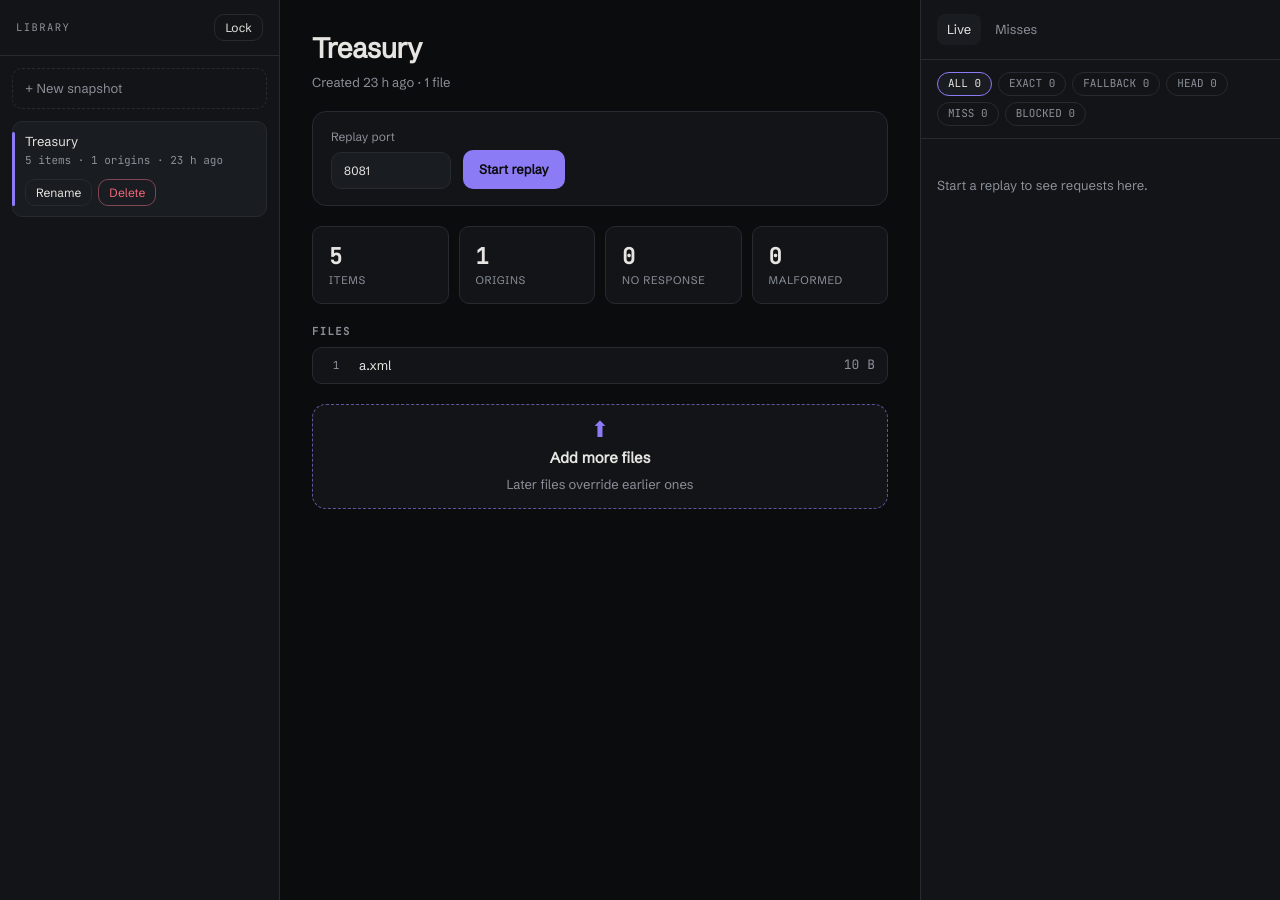
Test: renaming updates the card
The width and height of the screenshot is (1280, 900).
Expected: the button "Treasury 5 items · 1 origins · 23 h ago" is shown, [13, 122, 266, 179]
Click the button "Rename".
click(59, 193)  # box [25, 179, 92, 206]
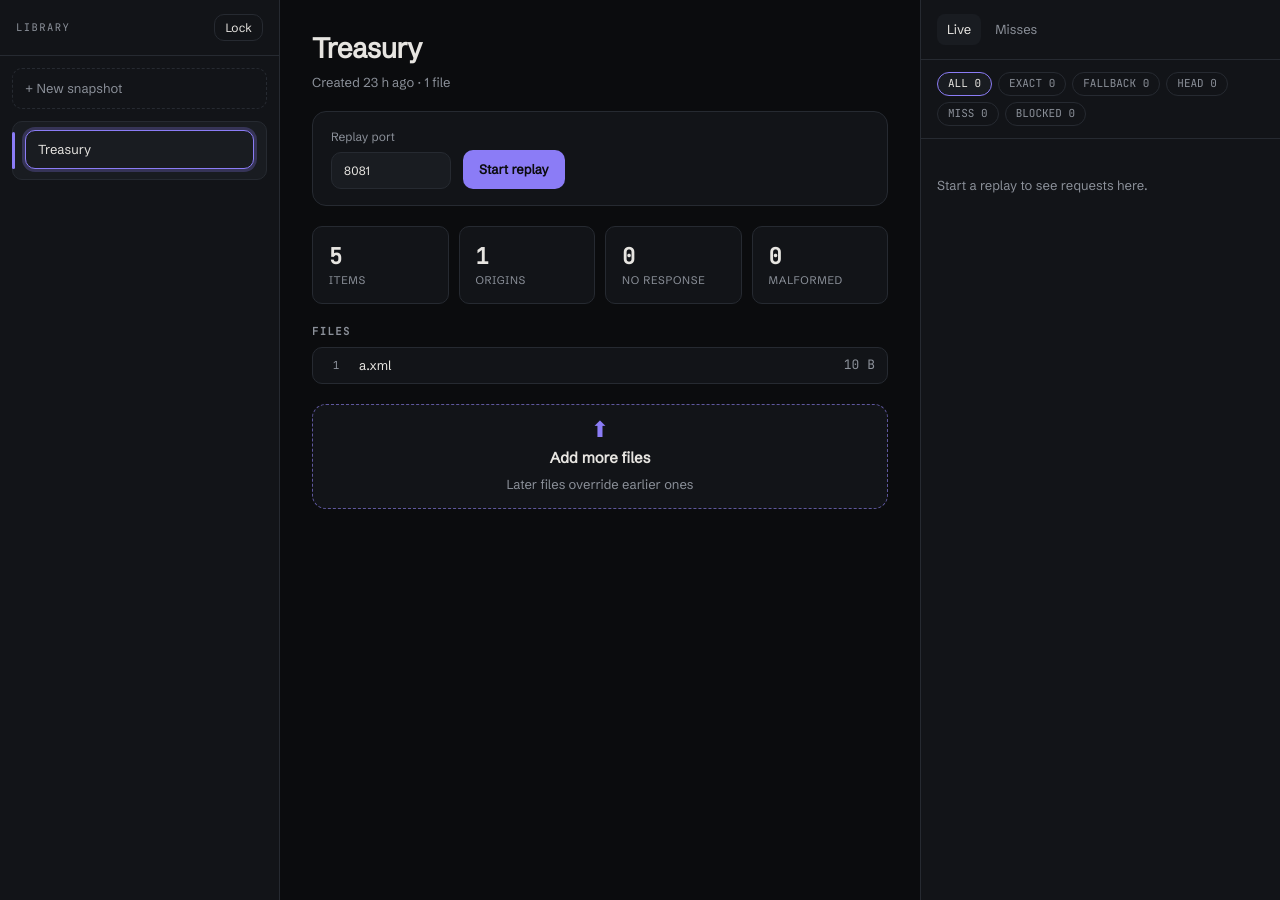
Replace the text in the field named "Snapshot name" with "Treasury Q3" at (140, 150), box [25, 130, 254, 169]
Then press Enter
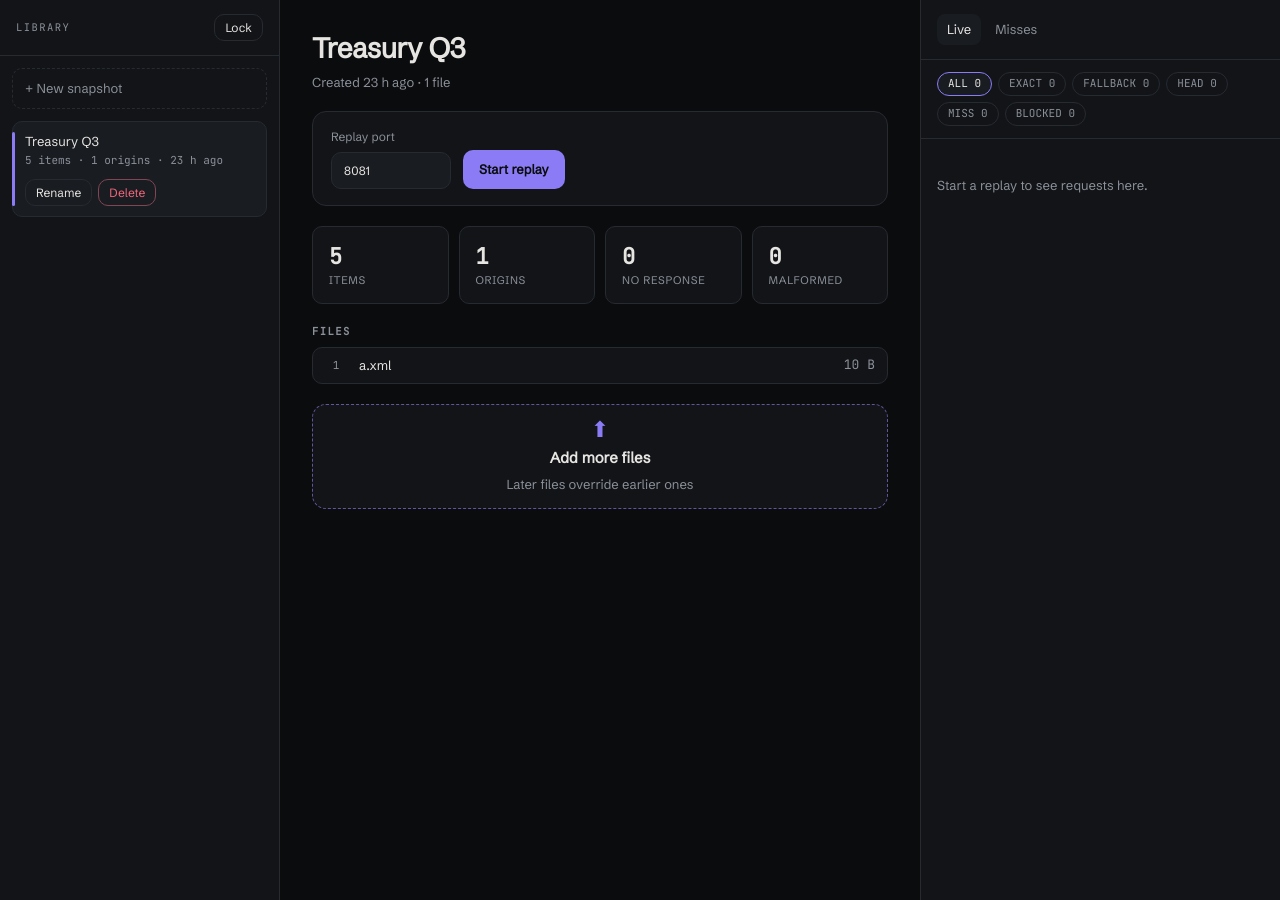
Now the button "Treasury Q3 5 items · 1 origins · 23 h ago" is shown, box [13, 122, 266, 179]
